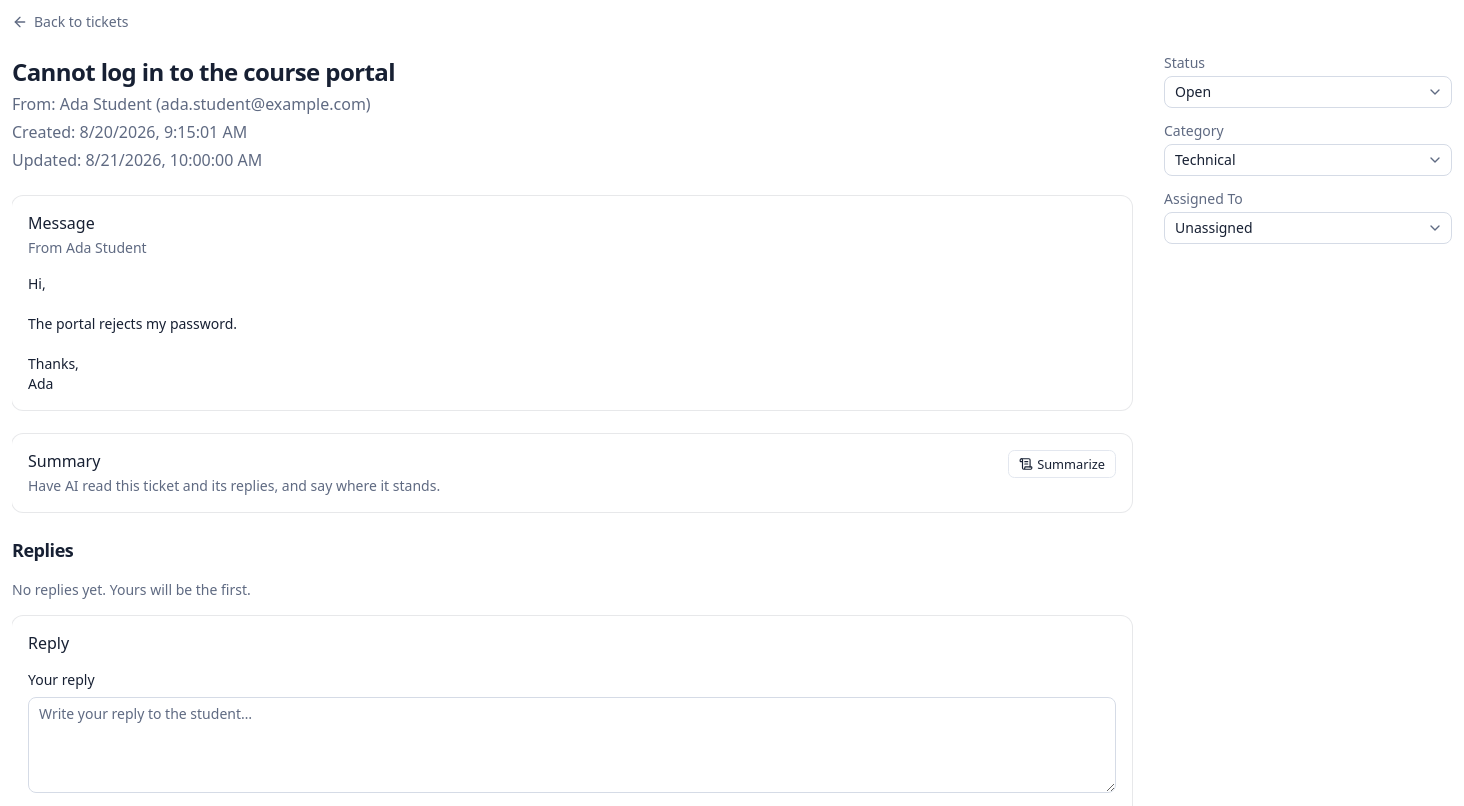
Test: TicketDetailPage › the queue's cache › leaves this page's own ticket alone
The width and height of the screenshot is (1464, 806).
Expected: the heading "Cannot log in to the course portal" is shown, [12,55,395,88]
Click the dropdown named "status" at x=1193, y=92, box [1164,76,1452,108]
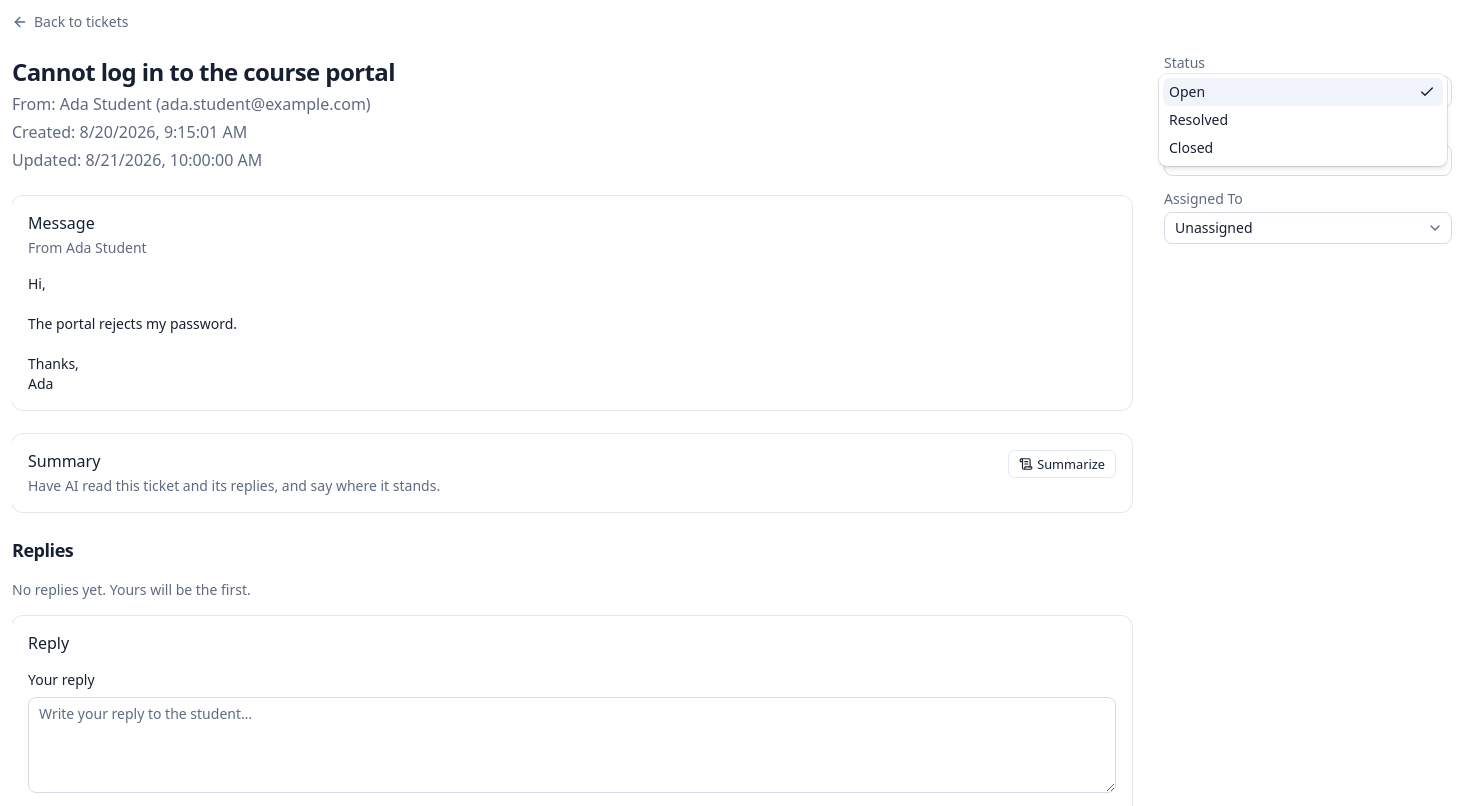
Click the option "Resolved" at x=1198, y=120, box [1169,110,1228,129]
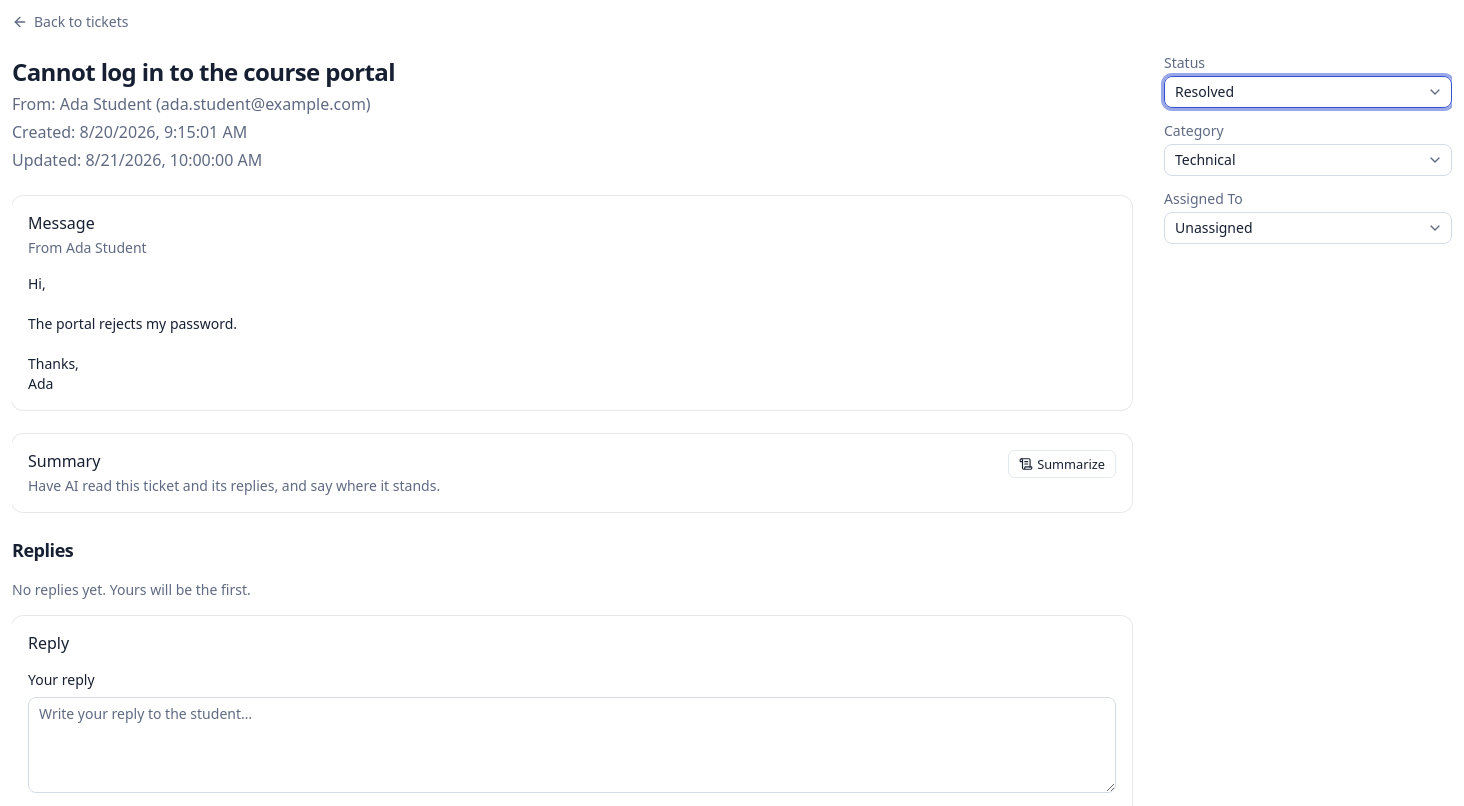
Now the dropdown named "status" shows "Resolved", box [1164,76,1452,108]
